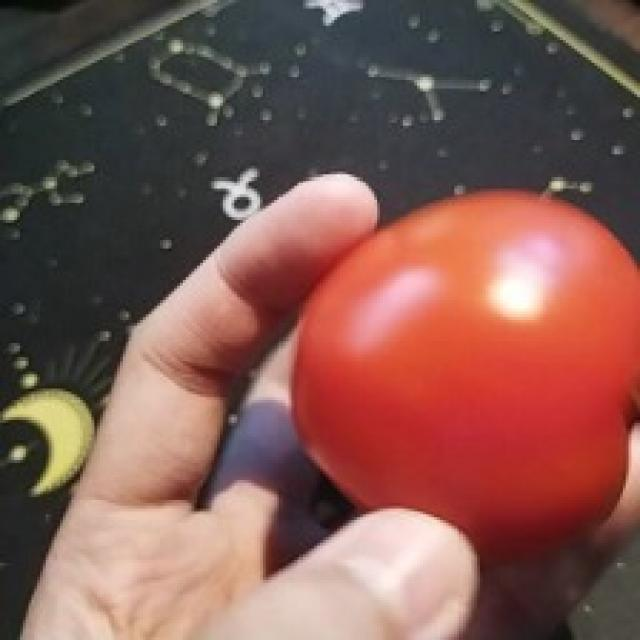Fresh Tomato: (253, 169, 640, 579)
